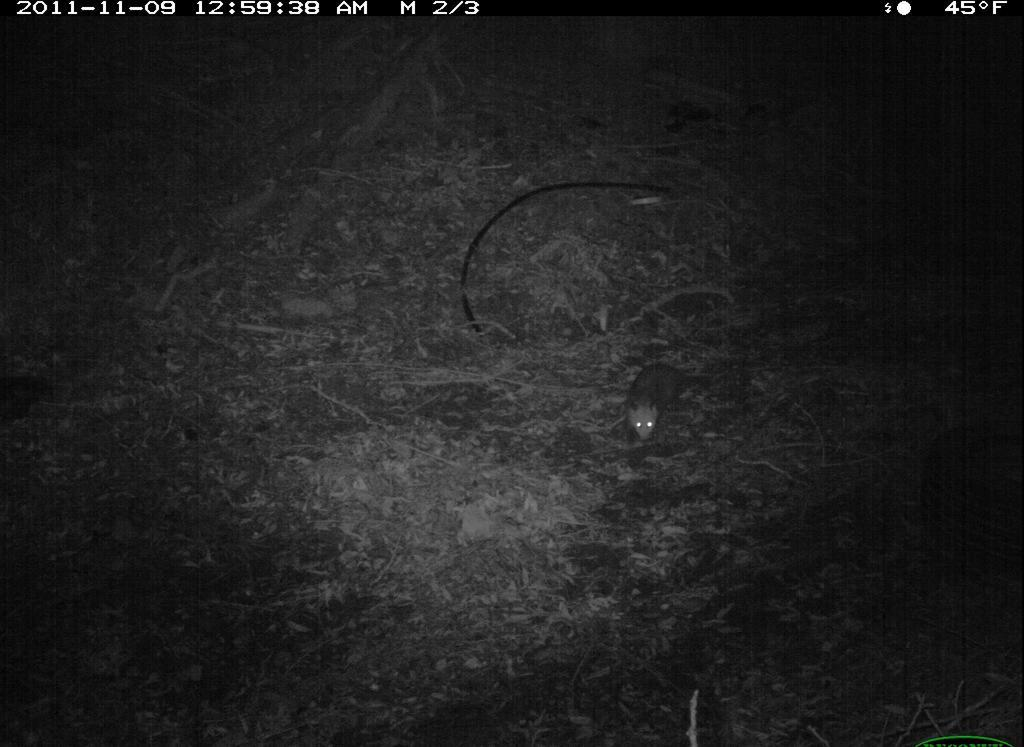opossum: (615, 351, 715, 465)
